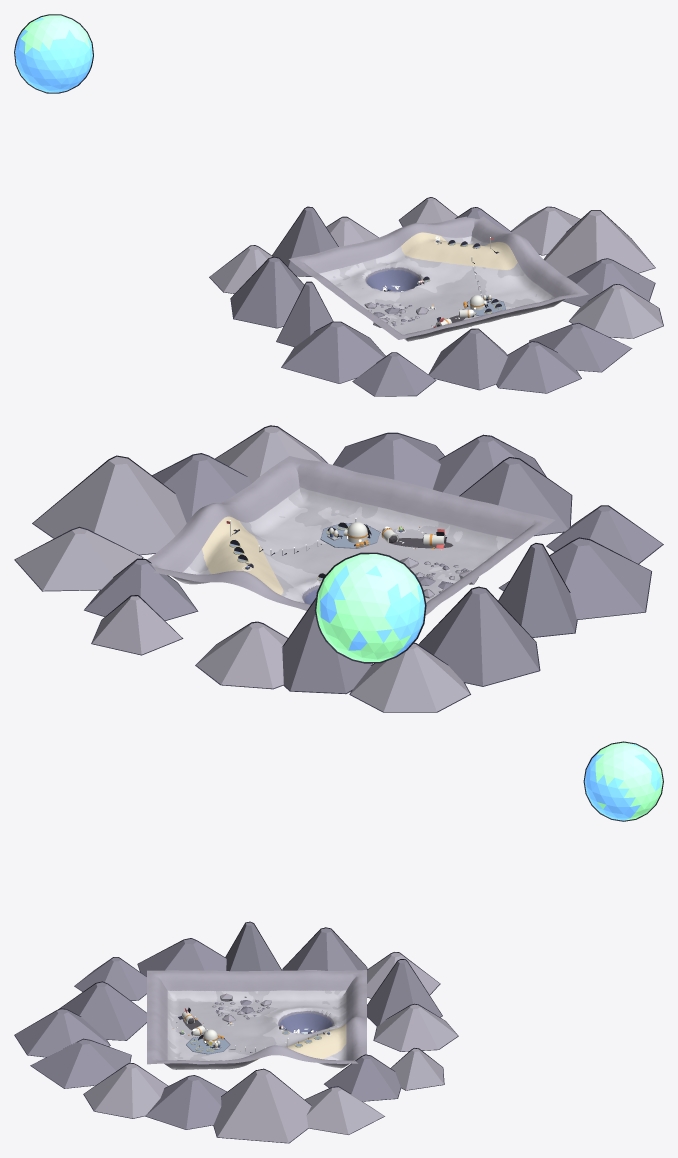
The model's file is Escenario_Completo.fbx.
3 views of the same model, one above another, from view 1: azimuth 30°, elevation 25°; view 2: azimuth 150°, elevation 25°; view 3: azimuth 270°, elevation 25° (orthographic). The views are drawn at different scales.
Parts seen in each view (by area): view 1: Terreno, Tierra, Montana_10, Montana_01, Montana_08, Montana_15, Montana_12, Montana_13, Montana_14, Montana_11, Montana_16, Montana_06 (+5 smaller); view 2: Terreno, Tierra, Montana_01, Montana_08, Montana_10, Montana_07, Montana_02, Montana_09, Montana_06, Montana_12, Montana_05, Montana_14 (+8 smaller); view 3: Terreno, Montana_01, Tierra, Montana_14, Montana_15, Montana_16, Montana_12, Montana_05, Montana_13, Montana_02, Montana_06, Montana_03 (+6 smaller).
Boxes of the visible parts, bbox=[...] form: Terreno: bbox=[289, 216, 588, 341]; Tierra: bbox=[15, 15, 92, 92]; Montana_10: bbox=[282, 322, 385, 383]; Montana_01: bbox=[544, 210, 654, 276]; Montana_08: bbox=[231, 257, 303, 327]; Montana_15: bbox=[570, 284, 662, 338]; Montana_12: bbox=[429, 329, 507, 389]; Montana_13: bbox=[496, 342, 580, 392]; Montana_14: bbox=[529, 323, 631, 371]; Montana_11: bbox=[353, 353, 435, 396]; Montana_16: bbox=[563, 259, 654, 306]; Montana_06: bbox=[272, 207, 337, 276]; Terreno: bbox=[147, 456, 555, 615]; Tierra: bbox=[316, 554, 424, 661]; Montana_01: bbox=[33, 456, 186, 554]; Montana_08: bbox=[419, 587, 539, 685]; Montana_10: bbox=[500, 538, 650, 619]; Montana_07: bbox=[350, 643, 469, 711]; Montana_02: bbox=[15, 528, 142, 590]; Montana_09: bbox=[498, 544, 576, 637]; Montana_06: bbox=[282, 600, 372, 693]; Montana_12: bbox=[460, 458, 571, 535]; Montana_05: bbox=[196, 622, 287, 688]; Montana_14: bbox=[333, 434, 444, 489]; Terreno: bbox=[147, 970, 366, 1069]; Montana_01: bbox=[214, 1069, 311, 1142]; Tierra: bbox=[584, 742, 662, 820]; Montana_14: bbox=[31, 1039, 130, 1088]; Montana_15: bbox=[84, 1064, 167, 1118]; Montana_16: bbox=[146, 1076, 226, 1129]; Montana_12: bbox=[60, 982, 146, 1040]; Montana_05: bbox=[374, 1004, 457, 1051]; Montana_13: bbox=[15, 1009, 109, 1056]; Montana_02: bbox=[305, 1087, 383, 1134]; Montana_06: bbox=[367, 960, 441, 1025]; Montana_03: bbox=[325, 1055, 400, 1101].
Bounding box in the file's own units: 210 × 94.41 × 266.
Materials: 23 (1 with a texture image).
